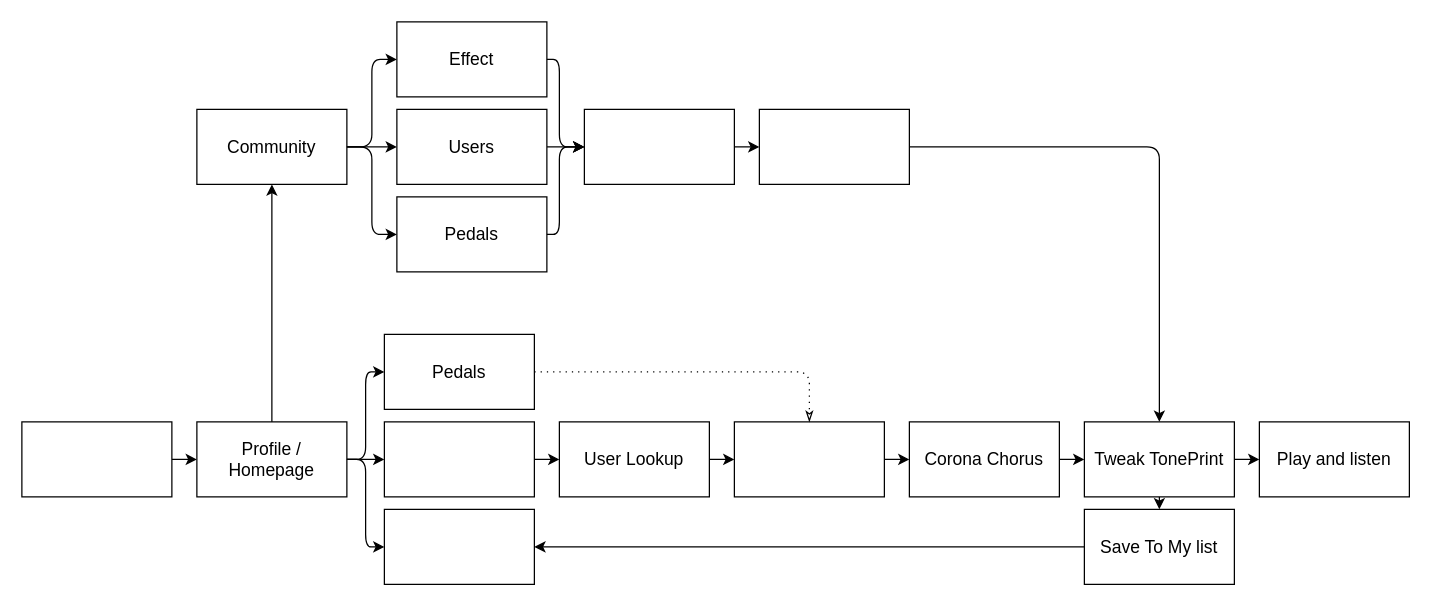
The diagram is 1431 pixels wide and 606 high, and some of its shapes have lost their labels. The centre of each missing label's shape, as x and y in pixels:
"Friends" belongs at (458,459).
"Log in" belongs at (96,459).
"Search result" belongs at (658,146).
"TonePrints" belongs at (458,546).
"User 1 Corona Chorus" belongs at (833,146).
"User 1 Profile" belongs at (808,459).
